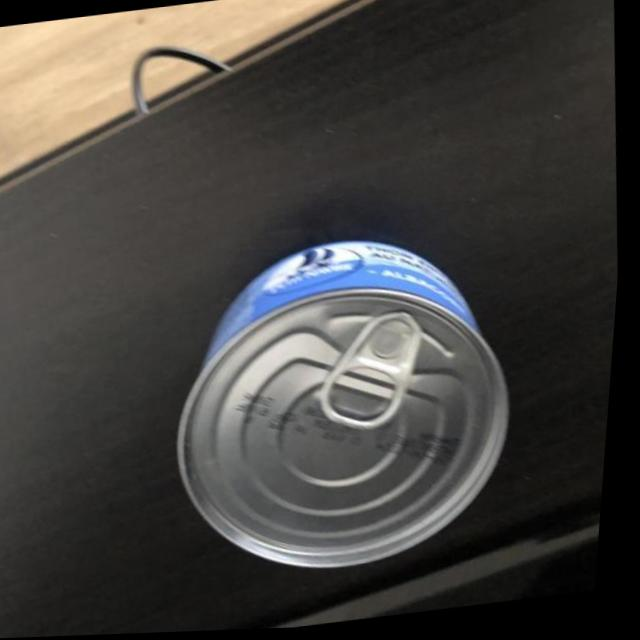metal: (177, 241, 507, 566)
